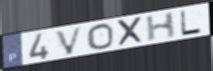4: (28, 31, 52, 60)
H: (144, 10, 176, 43)
L: (179, 9, 204, 37)
O: (85, 22, 115, 50)
V: (53, 25, 84, 56)
X: (114, 16, 146, 48)
